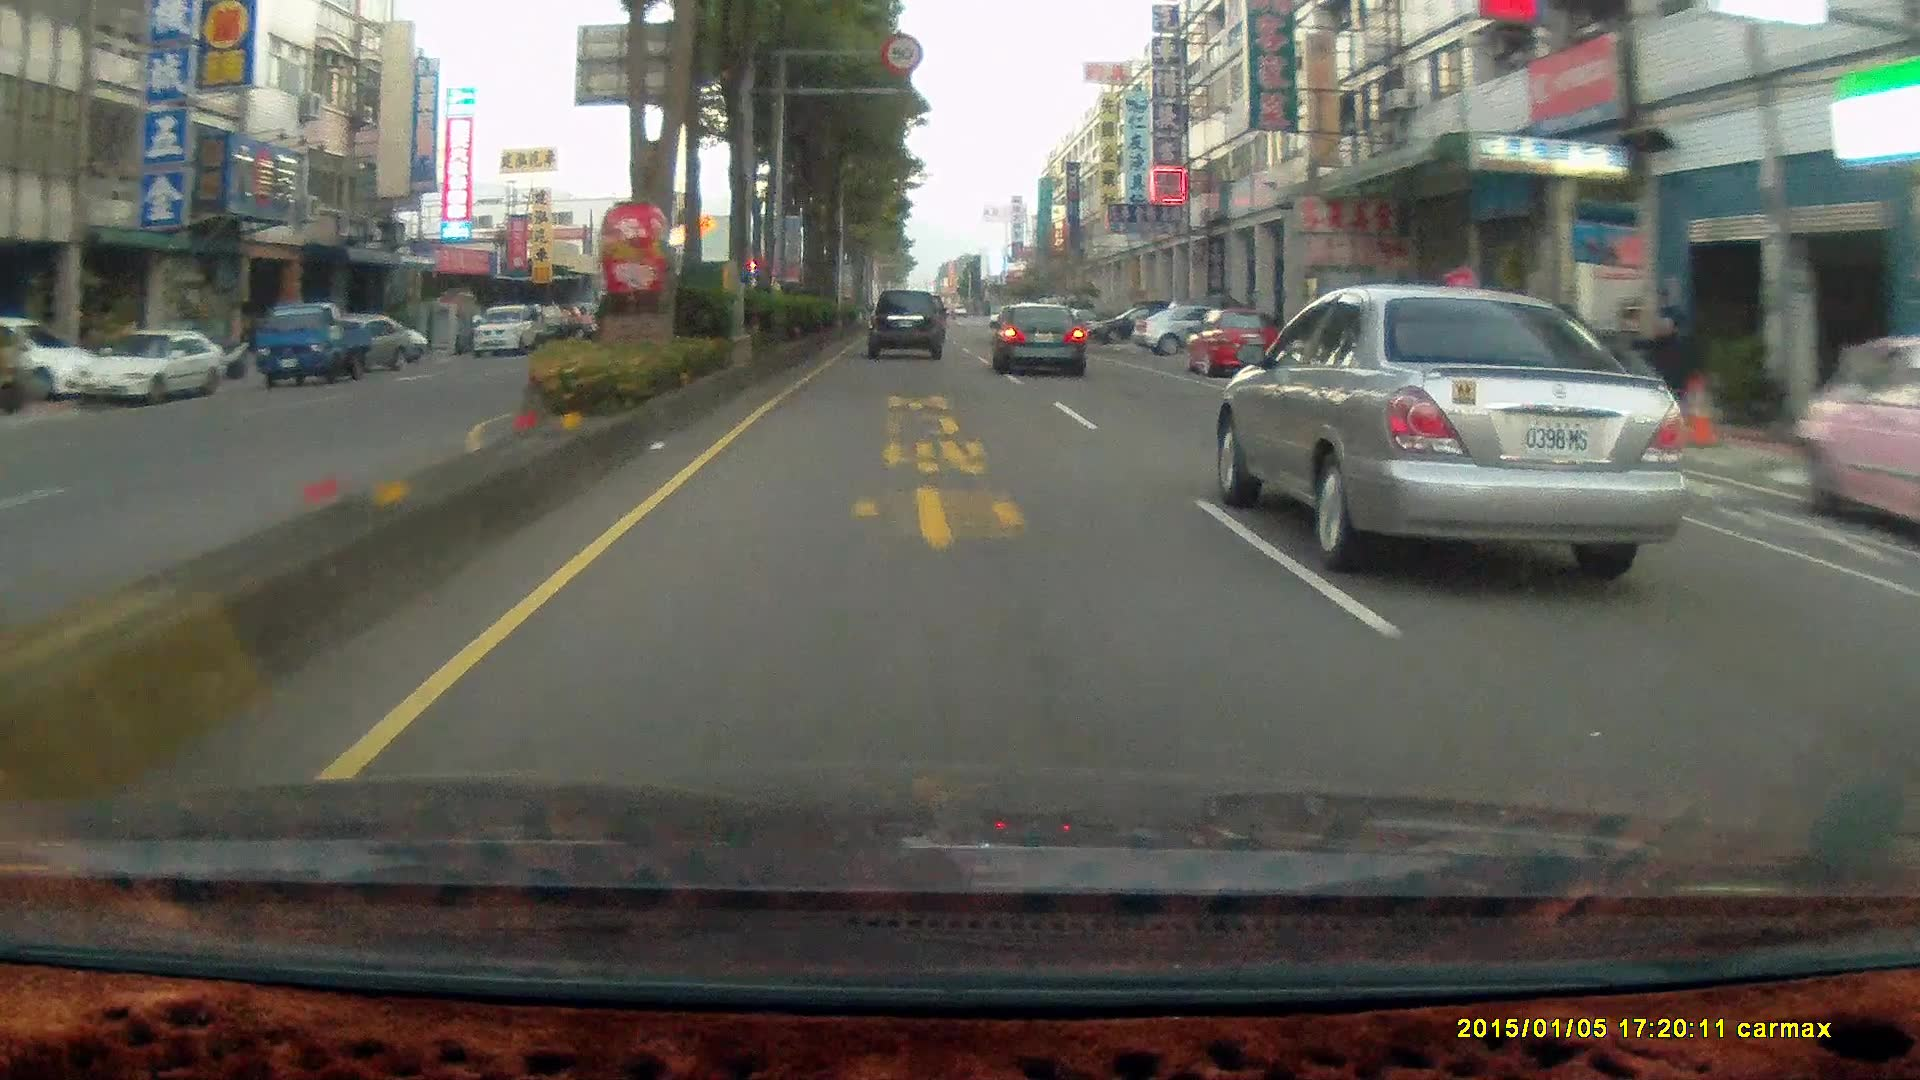vehicle: (1226, 286, 1709, 570), (1789, 328, 1920, 539), (1793, 331, 1920, 546), (1424, 291, 1635, 411), (70, 327, 223, 404), (252, 305, 382, 386), (75, 328, 222, 400), (255, 298, 369, 385), (0, 315, 102, 402), (988, 299, 1085, 376), (993, 301, 1091, 377), (1187, 309, 1287, 382), (1182, 305, 1280, 376), (1127, 295, 1251, 349), (866, 287, 949, 363), (305, 313, 410, 369), (862, 287, 942, 357), (471, 302, 541, 355), (1089, 303, 1179, 342)
